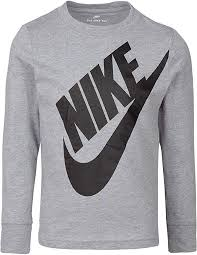nike: (60, 45, 177, 204)
